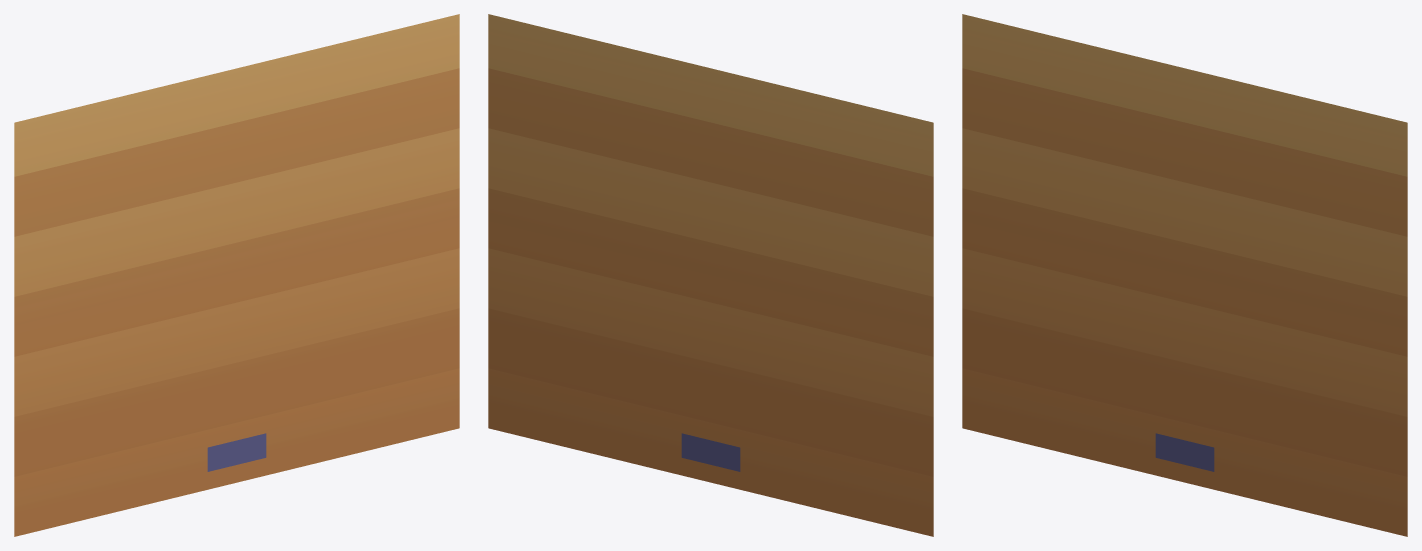
File: door-wide-closed.glb
3 views of the same model, side by side, from view 1: azimuth 30°, elevation 25°; view 2: azimuth 150°, elevation 25°; view 3: azimuth 330°, elevation 25° (orthographic).
Visible parts, largest first — view 1: door-wide-closed; view 2: door-wide-closed; view 3: door-wide-closed.
Part boxes in pixels (x1=…): door-wide-closed: x1=14, y1=14, x2=459, y2=536; door-wide-closed: x1=488, y1=14, x2=933, y2=536; door-wide-closed: x1=962, y1=14, x2=1407, y2=536.
Bounding box in the file's own units: 1.8 × 1.6 × 0.
1 material, 1 textured.
